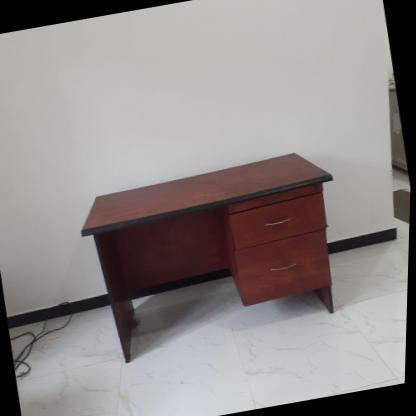Ceramic floor: (18, 219, 411, 416)
Table: (58, 136, 372, 380)
